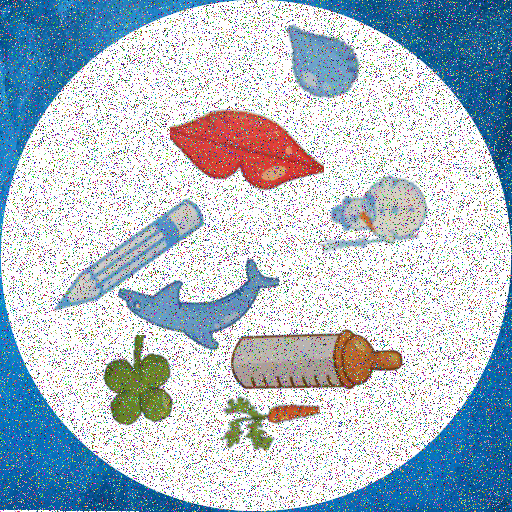bottle_icon: (227, 274, 404, 451)
carrot_icon: (214, 360, 320, 466)
cloverleaf_icon: (98, 335, 195, 432)
dolphin_icon: (118, 221, 279, 382)
lips_icon: (170, 64, 324, 218)
pen_icon: (53, 181, 205, 333)
raindrop_icon: (276, 15, 364, 103)
snowman_icon: (316, 166, 430, 280)
